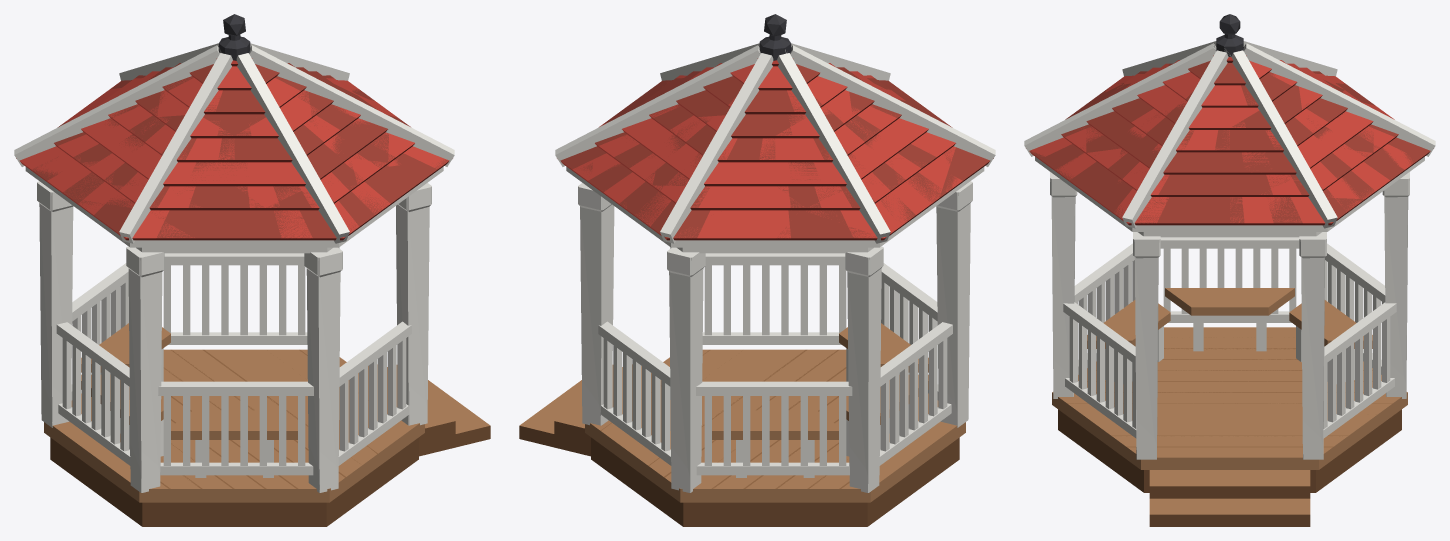
Rendered from FMS_Garden_Gazebo.fbx.
3 renders of one model, left to right at view 1: azimuth 30°, elevation 25°; view 2: azimuth 150°, elevation 25°; view 3: azimuth 270°, elevation 25°, orthographic. The views are drawn at different scales.
Visible parts, largest first — view 1: FMS_Garden_Gazebo_Roof, FMS_Garden_Gazebo_Railings, FMS_Garden_Gazebo_Roof_Low1, FMS_Garden_Gazebo_Frame_Low1, FMS_Garden_Gazebo_Base, FMS_Garden_Gazebo_Base_Low1, FMS_Garden_Gazebo_Frame, FMS_Garden_Gazebo_Railings_Low1, FMS_Garden_Gazebo_Benches; view 2: FMS_Garden_Gazebo_Roof, FMS_Garden_Gazebo_Railings, FMS_Garden_Gazebo_Roof_Low1, FMS_Garden_Gazebo_Frame_Low1, FMS_Garden_Gazebo_Base, FMS_Garden_Gazebo_Base_Low1, FMS_Garden_Gazebo_Railings_Low1, FMS_Garden_Gazebo_Frame, FMS_Garden_Gazebo_Benches; view 3: FMS_Garden_Gazebo_Roof, FMS_Garden_Gazebo_Base, FMS_Garden_Gazebo_Roof_Low1, FMS_Garden_Gazebo_Railings, FMS_Garden_Gazebo_Base_Low1, FMS_Garden_Gazebo_Frame_Low1, FMS_Garden_Gazebo_Benches, FMS_Garden_Gazebo_Frame, FMS_Garden_Gazebo_Railings_Low1.
Part boxes in pixels (left/top/right/bottom): FMS_Garden_Gazebo_Roof: left=14, top=14, right=454, bottom=247; FMS_Garden_Gazebo_Railings: left=56, top=253, right=411, bottom=475; FMS_Garden_Gazebo_Roof_Low1: left=14, top=34, right=453, bottom=247; FMS_Garden_Gazebo_Frame_Low1: left=37, top=181, right=431, bottom=492; FMS_Garden_Gazebo_Base: left=44, top=349, right=490, bottom=526; FMS_Garden_Gazebo_Base_Low1: left=44, top=349, right=488, bottom=526; FMS_Garden_Gazebo_Frame: left=37, top=181, right=431, bottom=492; FMS_Garden_Gazebo_Railings_Low1: left=56, top=253, right=411, bottom=475; FMS_Garden_Gazebo_Benches: left=81, top=323, right=297, bottom=477; FMS_Garden_Gazebo_Roof: left=555, top=14, right=995, bottom=247; FMS_Garden_Gazebo_Railings: left=598, top=253, right=952, bottom=475; FMS_Garden_Gazebo_Roof_Low1: left=561, top=35, right=995, bottom=247; FMS_Garden_Gazebo_Frame_Low1: left=578, top=181, right=972, bottom=492; FMS_Garden_Gazebo_Base: left=519, top=349, right=965, bottom=526; FMS_Garden_Gazebo_Base_Low1: left=521, top=349, right=964, bottom=526; FMS_Garden_Gazebo_Railings_Low1: left=598, top=256, right=952, bottom=475; FMS_Garden_Gazebo_Frame: left=578, top=181, right=972, bottom=492; FMS_Garden_Gazebo_Benches: left=712, top=323, right=928, bottom=477; FMS_Garden_Gazebo_Roof: left=1024, top=14, right=1435, bottom=231; FMS_Garden_Gazebo_Base: left=1052, top=327, right=1407, bottom=526; FMS_Garden_Gazebo_Roof_Low1: left=1024, top=34, right=1435, bottom=231; FMS_Garden_Gazebo_Railings: left=1063, top=237, right=1396, bottom=438; FMS_Garden_Gazebo_Base_Low1: left=1052, top=327, right=1407, bottom=526; FMS_Garden_Gazebo_Frame_Low1: left=1050, top=172, right=1409, bottom=459; FMS_Garden_Gazebo_Benches: left=1087, top=288, right=1372, bottom=383; FMS_Garden_Gazebo_Frame: left=1050, top=172, right=1409, bottom=459; FMS_Garden_Gazebo_Railings_Low1: left=1063, top=237, right=1395, bottom=437.
Size of the model in its own units: 3.58 by 4 by 3.58.
1 material, 1 textured.
